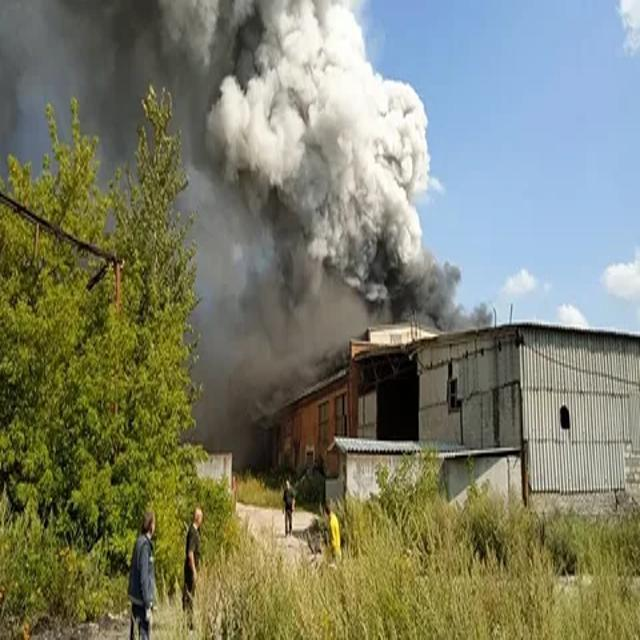Smoke: (49, 0, 494, 334)
